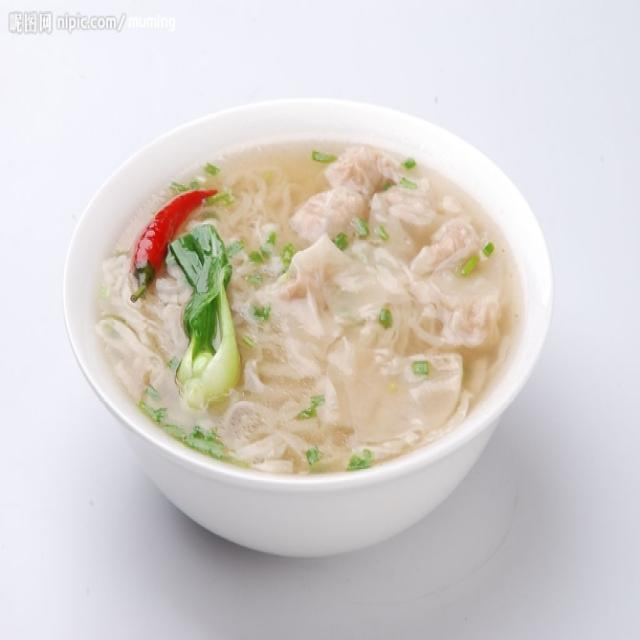面条主食: (82, 115, 533, 542)
